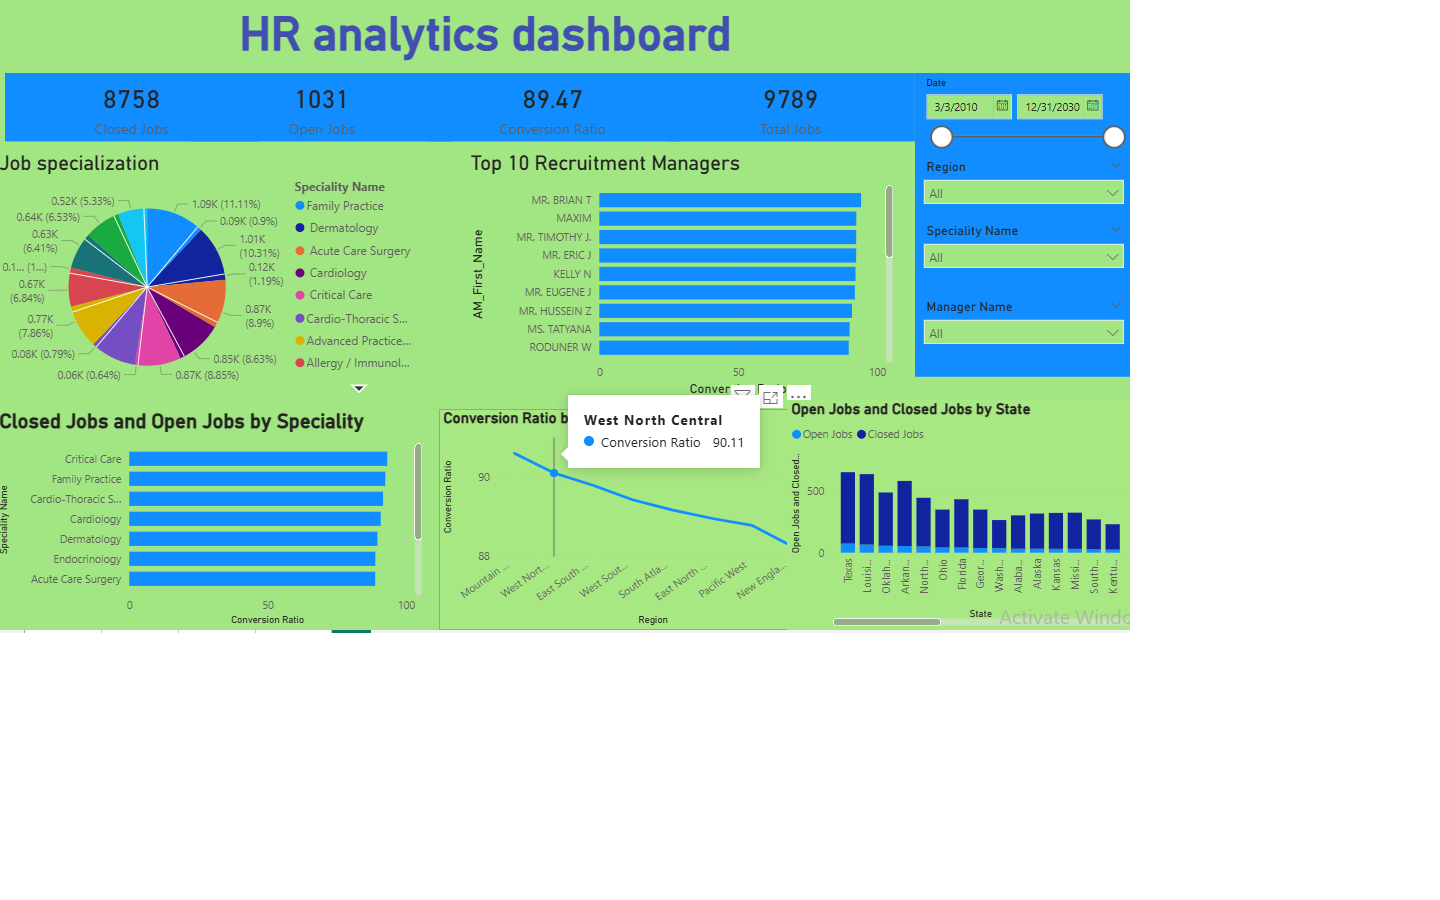

Layout of this report page (visuals, bound fields, positions):
{"tool":"powerbi","page":{"name":"Page 2","canvas":[1280,720],"ordinal":1},"visuals":[{"type":"textbox","box":[10.7,0,1269.3,93.4],"z":0},{"type":"pieChart","title":"Job specialization","fields":{"Category":["Speciality.Speciality Name"],"Series":["Jobs and Closure.status "],"Y":["CountNonNull(Jobs and Closure.status )"]},"box":[0,180.7,485.4,280.2],"z":1000},{"type":"card","fields":{"Values":["Measure.Closed Jobs"]},"box":[10.7,93.4,284.8,76.6],"z":2000},{"type":"card","fields":{"Values":["Measure.Conversion Ratio"]},"box":[485.4,93.4,284.8,76.6],"z":3000},{"type":"card","fields":{"Values":["Measure.Open Jobs"]},"box":[220.5,93.4,294,76.6],"z":4000},{"type":"card","fields":{"Values":["Measure.Total Jobs"]},"box":[754.8,93.4,280.2,76.6],"z":5000},{"type":"barChart","title":"Top 10 Recruitment Managers","fields":{"Category":["Account Mangaer.AM_First_Name"],"Y":["Measure.Conversion Ratio"]},"box":[529.8,180.7,485.4,280.2],"z":6000},{"type":"barChart","title":"Closed Jobs and Open Jobs by Speciality","fields":{"Y":["Measure.Conversion Ratio"],"Category":["Speciality.Speciality Name"]},"box":[0,471.6,485.4,248],"z":7000},{"type":"slicer","fields":{"Values":["CalendarTable.Date"]},"box":[1035,93.4,245,91.9],"z":8000},{"type":"slicer","fields":{"Values":["State.Region"]},"box":[1035,185.3,245,72],"z":9000},{"type":"slicer","fields":{"Values":["Speciality.Speciality Name"]},"box":[1035,257.2,245,85.7],"z":10000},{"type":"slicer","fields":{"Values":["Account Mangaer.AM_First_Name"]},"box":[1035,343,245,91.9],"z":11000},{"type":"lineChart","fields":{"Category":["Region.Region"],"Y":["Measure.Conversion Ratio"]},"box":[499.1,471.6,419.5,248],"z":11001},{"type":"columnChart","fields":{"Category":["State.State"],"Y":["Measure.Open Jobs","Measure.Closed Jobs"]},"box":[891.1,460.9,388.9,258.8],"z":11002}]}

Visuals, with their boxes on the page's 1280x720 design canvas (x1, y1, x2, y2). These are canvas units, not pixel positions in the 1440x900 screenshot, which may show the page scaled, cropped or inside an application window:
textbox: (left=11, top=0, right=1280, bottom=93)
"Job specialization" pieChart: (left=0, top=181, right=485, bottom=461)
card - Measure.Closed Jobs: (left=11, top=93, right=296, bottom=170)
card - Measure.Conversion Ratio: (left=485, top=93, right=770, bottom=170)
card - Measure.Open Jobs: (left=220, top=93, right=514, bottom=170)
card - Measure.Total Jobs: (left=755, top=93, right=1035, bottom=170)
"Top 10 Recruitment Managers" barChart: (left=530, top=181, right=1015, bottom=461)
"Closed Jobs and Open Jobs by Speciality" barChart: (left=0, top=472, right=485, bottom=720)
slicer - CalendarTable.Date: (left=1035, top=93, right=1280, bottom=185)
slicer - State.Region: (left=1035, top=185, right=1280, bottom=257)
slicer - Speciality.Speciality Name: (left=1035, top=257, right=1280, bottom=343)
slicer - Account Mangaer.AM_First_Name: (left=1035, top=343, right=1280, bottom=435)
lineChart - Region.Region x Measure.Conversion Ratio: (left=499, top=472, right=919, bottom=720)
columnChart - State.State x Measure.Open Jobs: (left=891, top=461, right=1280, bottom=720)
